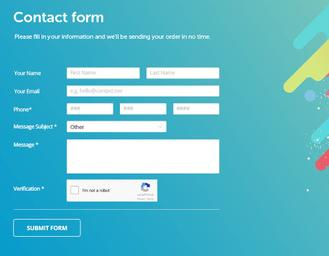button: (11, 218, 82, 238)
checkbox: (69, 185, 81, 197)
checkbox_with_label: (68, 182, 111, 198)
field: (64, 139, 220, 175), (64, 85, 220, 98), (65, 66, 141, 81), (67, 121, 168, 132), (145, 67, 221, 80), (64, 103, 116, 117)
field_with_label: (12, 138, 222, 176), (13, 83, 223, 99), (13, 64, 143, 82), (13, 119, 169, 133), (12, 102, 117, 118)
